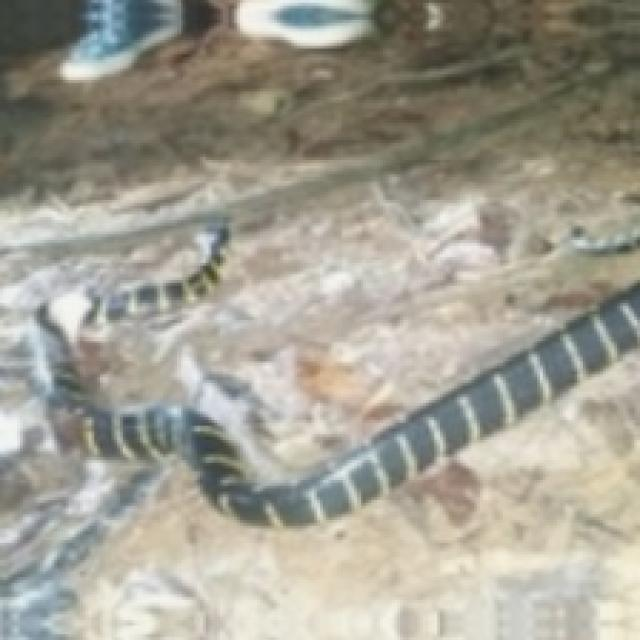mangrove cat snake: (34, 251, 637, 523)
